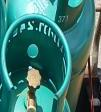cylinder: (0, 1, 101, 112)
